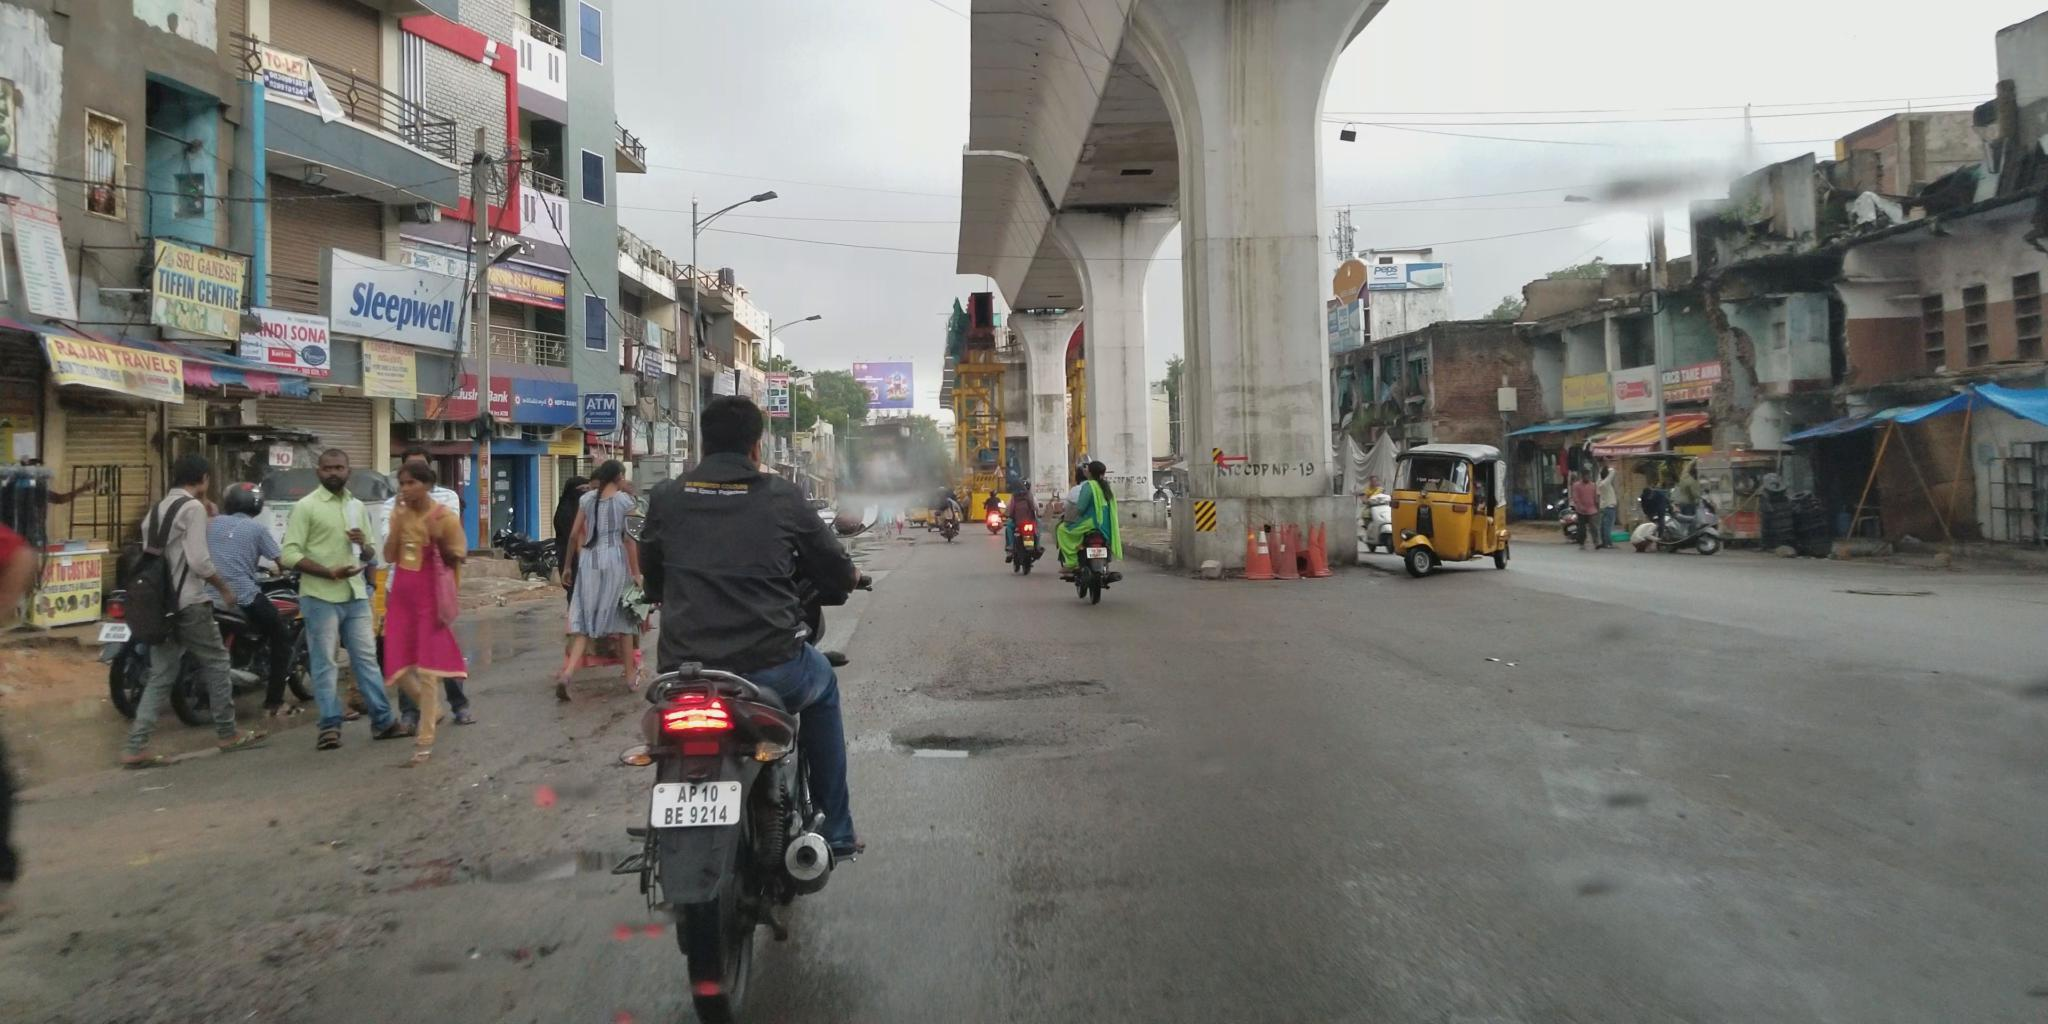off: (0, 0, 1861, 1024)
